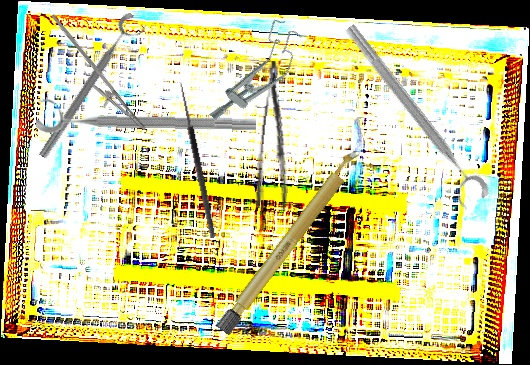Dressing Forceps: (252, 60, 302, 211)
Fixation Ring: (330, 20, 493, 213), (34, 10, 150, 167), (35, 97, 257, 137)
Hook Surgical: (169, 81, 218, 240)
Needle Holder: (31, 13, 159, 140)
Scalpel Handle: (215, 145, 366, 337)
Speculum: (202, 15, 312, 137)
